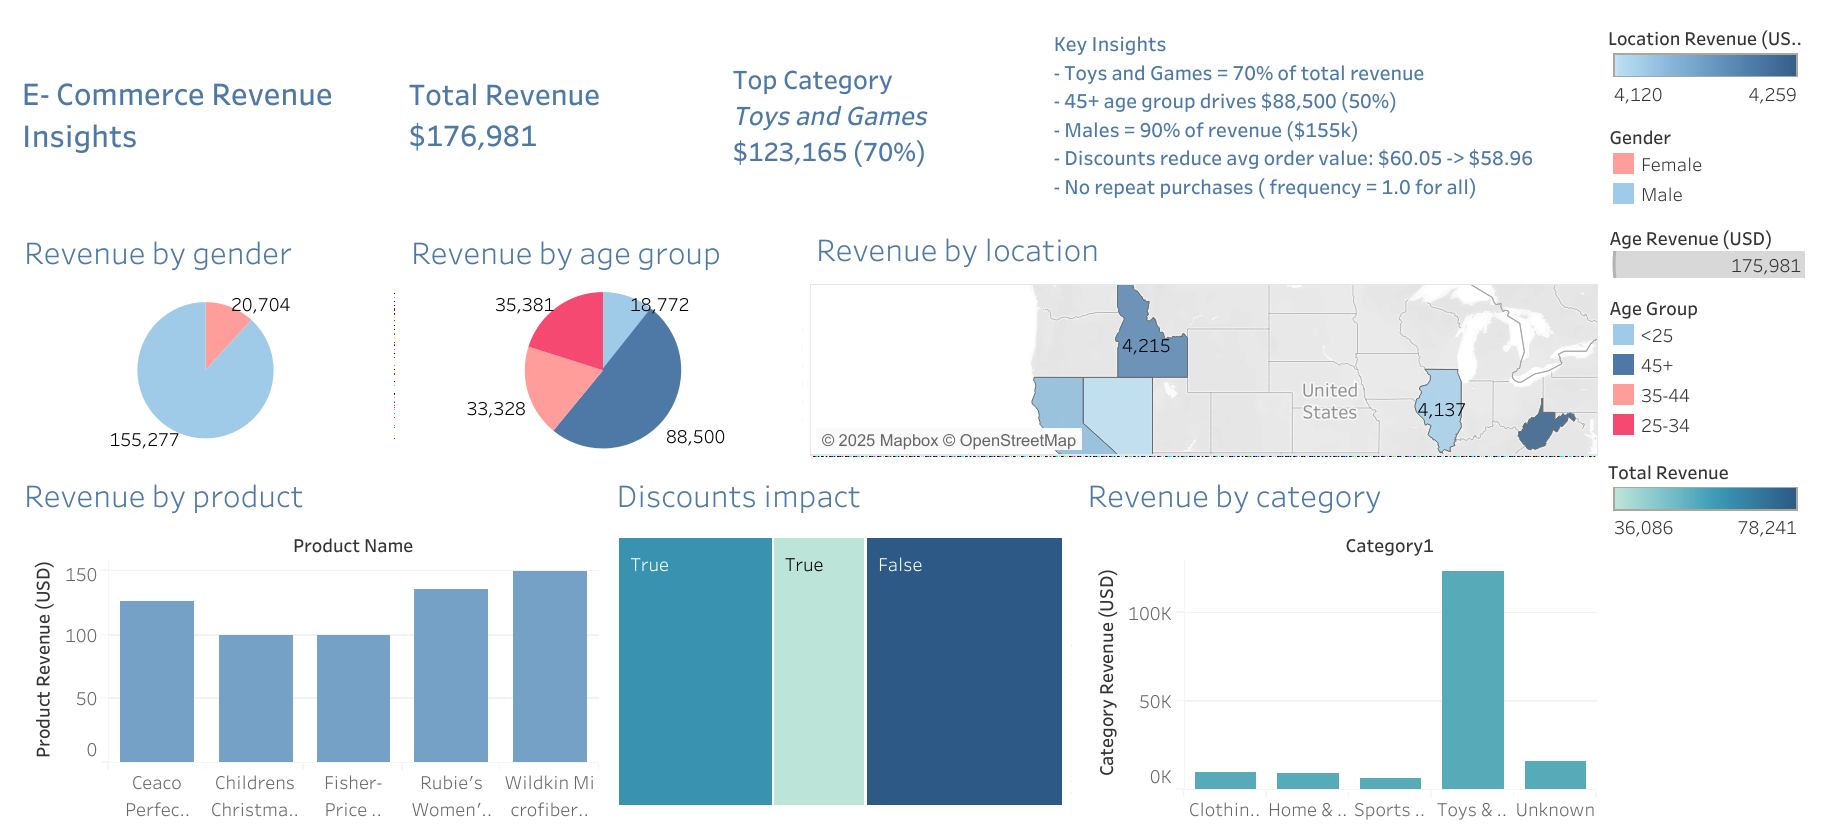

This screenshot's page, from the dashboard's own definition file:
{"tool":"tableau","page":{"name":"Dashboard 2","canvas":[1000,1000],"units":"permille","ordinal":1},"visuals":[{"type":"text","box":[4.8,9.8,220.6,245.1]},{"type":"text","box":[225.4,9.8,185.1,245.7]},{"type":"text","box":[410.5,9.8,183.3,245.7]},{"type":"text","box":[593.8,9.8,317.9,245.7]},{"type":"legend","title":"Revenue by location","param":"[federated.0d2e72k070dr9716mw0i31wmissz].[sum:Location Revenue (USD):qk]","box":[911.7,9.8,83.5,99]},{"type":"legend","title":"Revenue by gender","param":"[federated.1hgzbbk0dt3un319hth9i0zc5lhs].[none:Gender:nk]","box":[911.7,108.8,83.5,102.7]},{"type":"legend","title":"Revenue by age group","param":"[federated.0mej8rf1ch2jk91cgl1sw1anbe2q].[sum:Age Revenue (USD):qk]","box":[911.7,211.5,83.5,72.1]},{"type":"worksheet","title":"Revenue by gender","mark":"Pie","box":[4.8,254.9,220.6,291.6]},{"type":"worksheet","title":"Revenue by age group","mark":"Pie","box":[225.4,255.5,232.9,290.9]},{"type":"worksheet","title":"Revenue by location","mark":"Automatic","box":[458.2,255.5,453.4,290.9]},{"type":"legend","title":"Revenue by age group","param":"[federated.0mej8rf1ch2jk91cgl1sw1anbe2q].[none:Age Group:nk]","box":[911.7,283.6,83.5,163.8]},{"type":"legend","title":"Discounts impact","param":"[federated.1hi02de1hoft2f11vf6in10hs9i7].[sum:Total Revenue:qk]","box":[911.7,447.4,83.5,99]},{"type":"worksheet","title":"Revenue by product","mark":"Automatic","rows":["Product Revenue (USD)"],"cols":["Product Name"],"box":[4.8,546.5,338.1,443.8]},{"type":"worksheet","title":"Discounts impact","mark":"Automatic","box":[342.9,546.5,268.6,443.8]},{"type":"worksheet","title":"Revenue by category","mark":"Automatic","rows":["Category Revenue (USD)"],"cols":["Category"],"box":[611.6,546.5,300.1,443.8]}]}

Visuals, with their boxes on the dashboard's canvas, which has no fixed pixel size, in thousandths of its width and height (x1, y1, x2, y2). These are canvas units, not pixel positions in the 1821x839 screenshot, which may show the page scaled, cropped or inside an application window:
text: select_region(5, 10, 225, 255)
text: select_region(225, 10, 410, 256)
text: select_region(410, 10, 594, 256)
text: select_region(594, 10, 912, 256)
"Revenue by location" legend: select_region(912, 10, 995, 109)
"Revenue by gender" legend: select_region(912, 109, 995, 212)
"Revenue by age group" legend: select_region(912, 212, 995, 284)
"Revenue by gender" worksheet (Pie marks): select_region(5, 255, 225, 546)
"Revenue by age group" worksheet (Pie marks): select_region(225, 256, 458, 546)
"Revenue by location" worksheet: select_region(458, 256, 912, 546)
"Revenue by age group" legend: select_region(912, 284, 995, 447)
"Discounts impact" legend: select_region(912, 447, 995, 546)
"Revenue by product" worksheet: select_region(5, 546, 343, 990)
"Discounts impact" worksheet: select_region(343, 546, 612, 990)
"Revenue by category" worksheet: select_region(612, 546, 912, 990)
